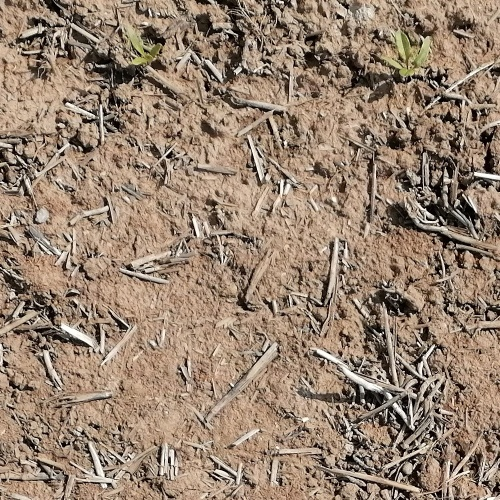beet: (386, 34, 433, 78), (128, 25, 161, 66)
